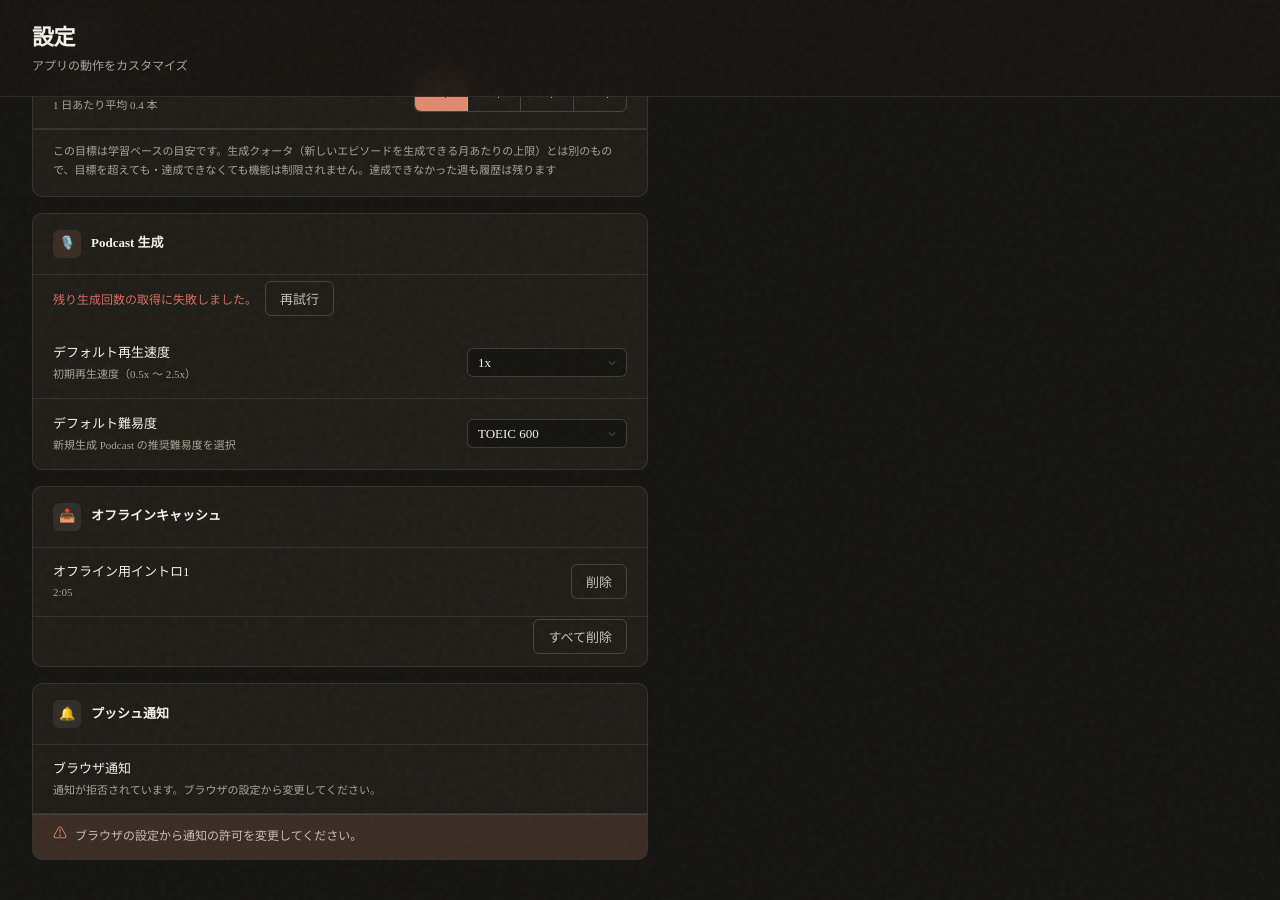
Test: SettingsPage — offline cache (issue #167) › deletes a single cached episode via offline.remove(episodeId) and refreshes the list (verifies: CI-P4-32)
The image size is (1280, 900).
(page scrolled)
Expected: the text "オフライン用イントロ1" is shown, [53, 562, 190, 582]
Click the button "削除": (599, 582) [571, 564, 627, 599]
(page scrolled)
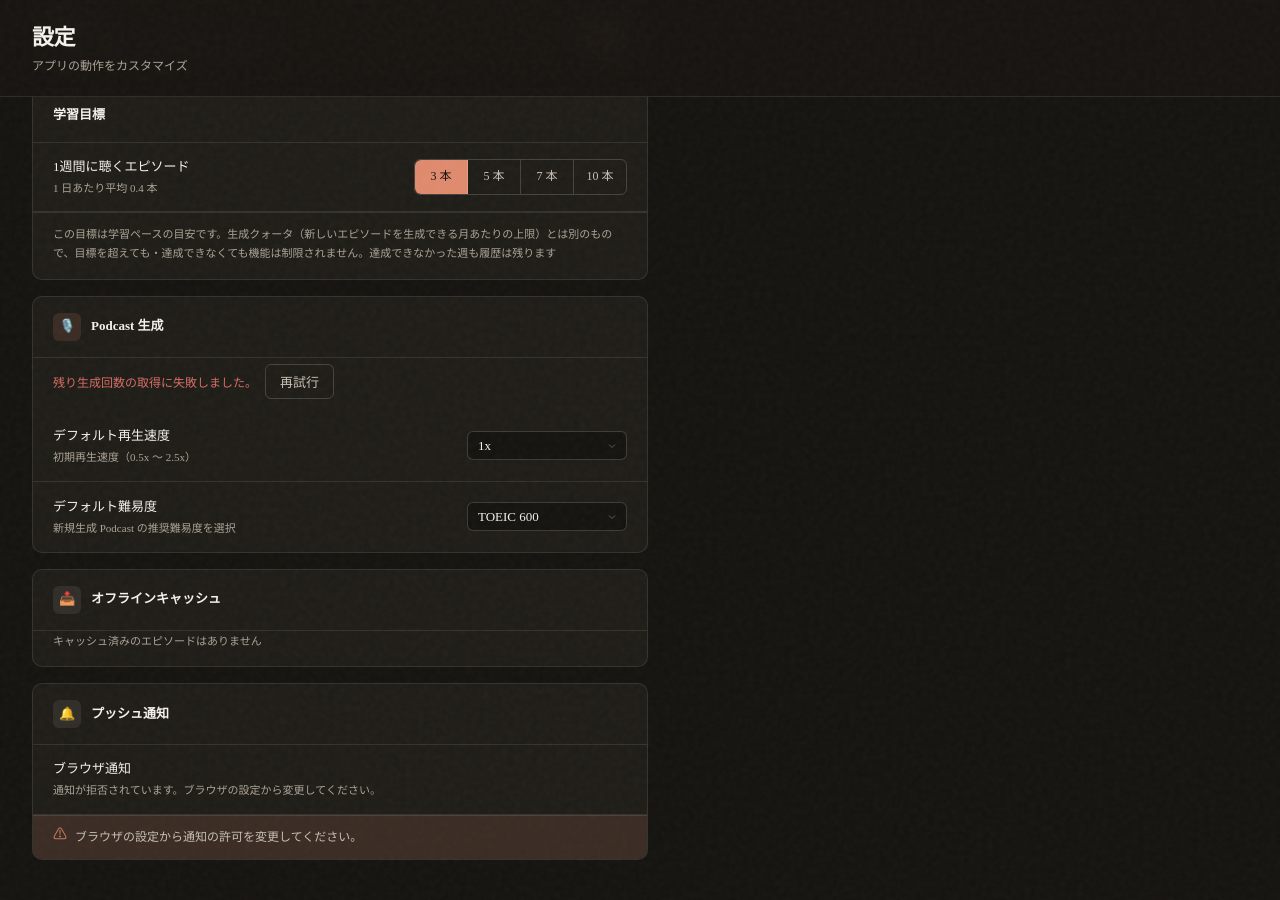
Now the text "オフライン用イントロ1" is gone
Now the text "キャッシュ済みのエピソードはありません" is shown, box [53, 635, 262, 647]
